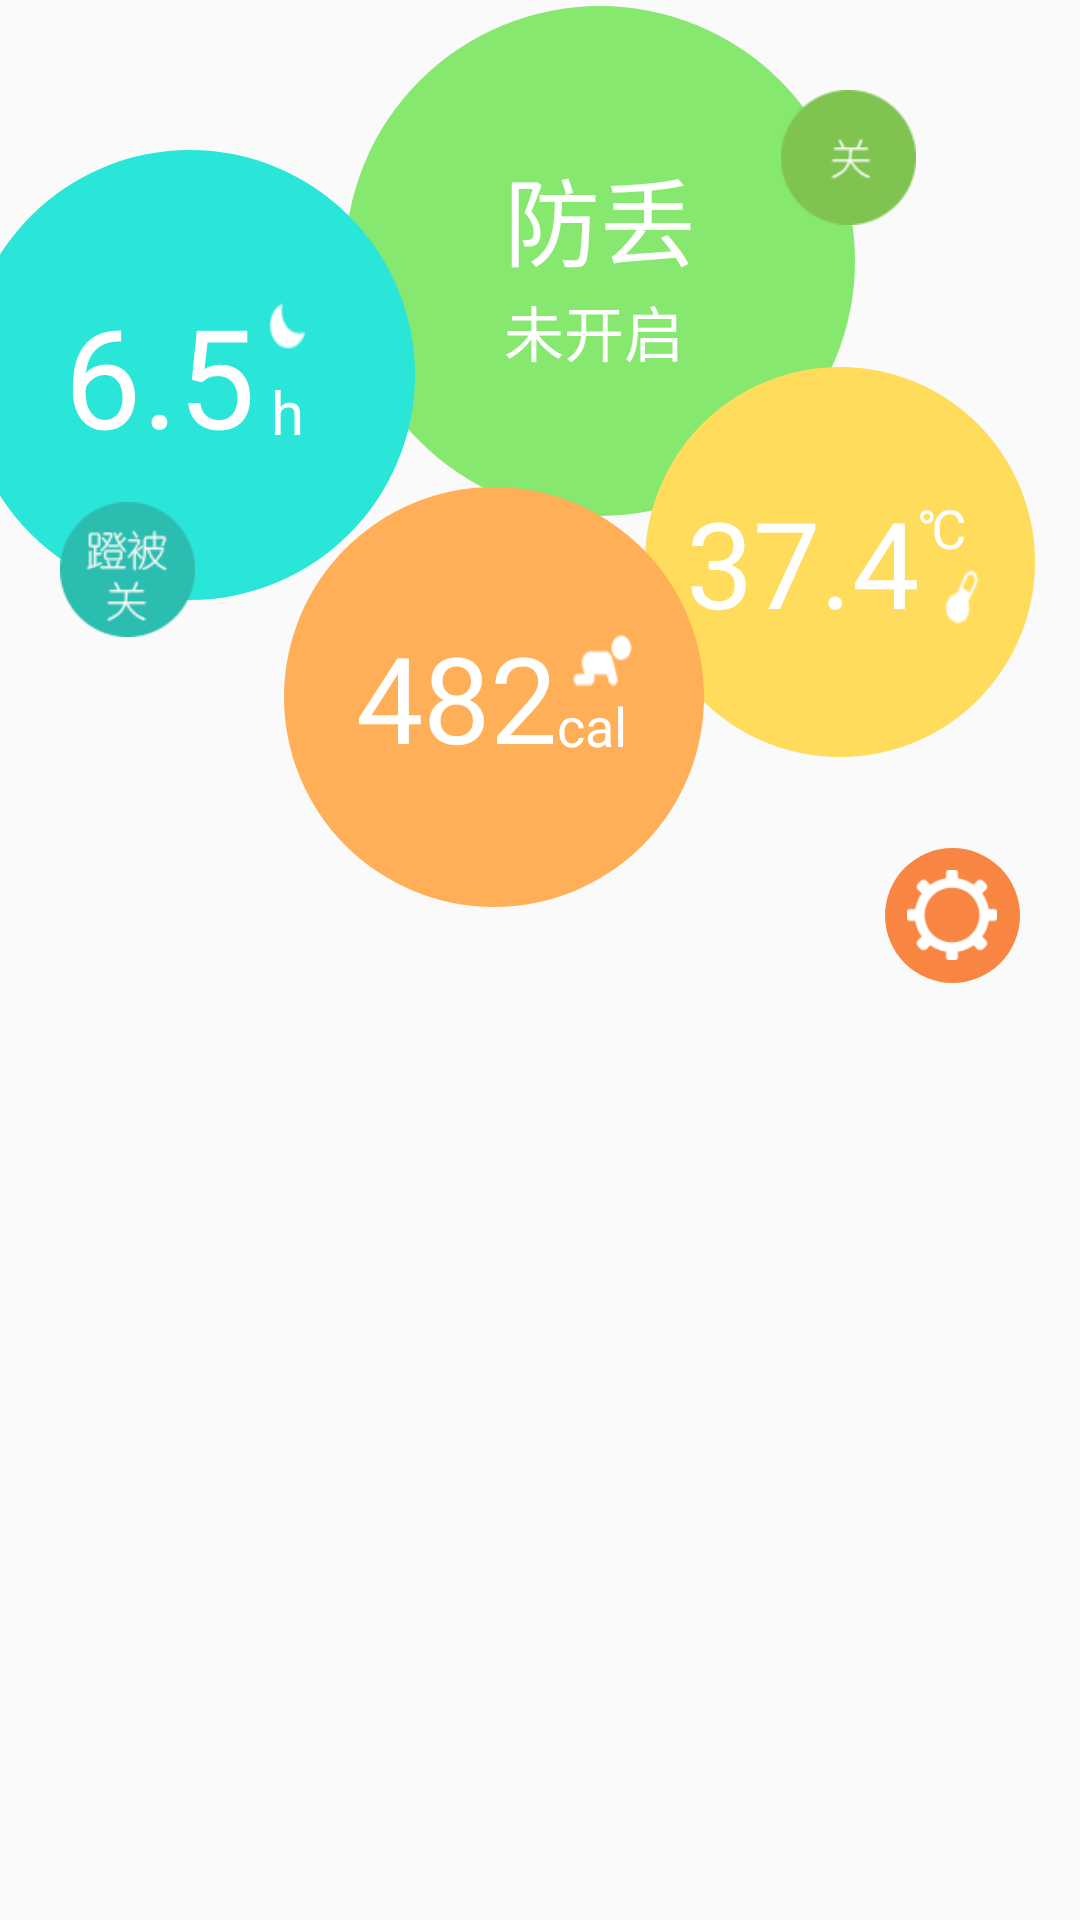

Icons on this 1080 × 1920 Android screen, each with its box as {"x1": x1, "y1": y1, "x2": x2, "y2": y2}:
setting: {"x1": 907, "y1": 870, "x2": 997, "y2": 960}
sleep: {"x1": 270, "y1": 303, "x2": 305, "y2": 349}
